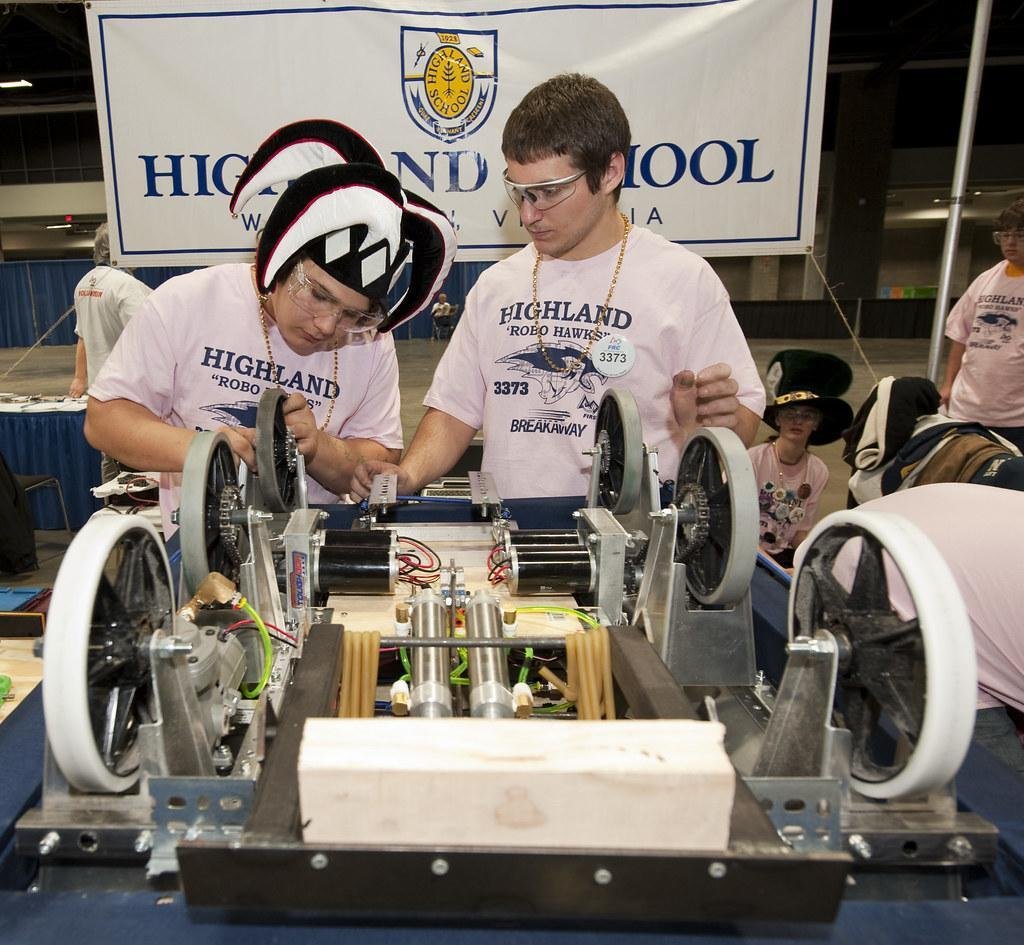robot: (0, 380, 1024, 944)
